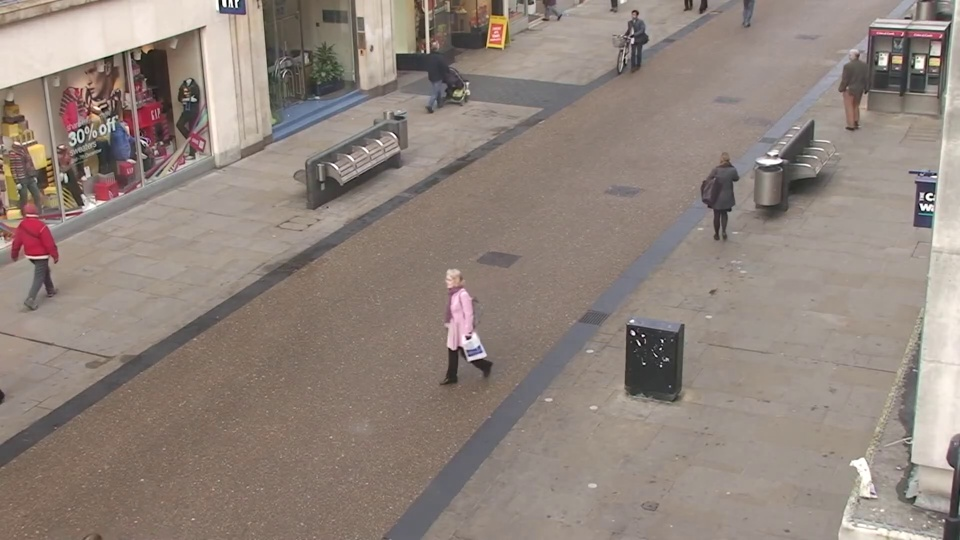pedestrian: (17, 193, 73, 307), (421, 264, 467, 400), (705, 145, 741, 249), (831, 46, 865, 126), (427, 36, 454, 109), (622, 9, 645, 76)
